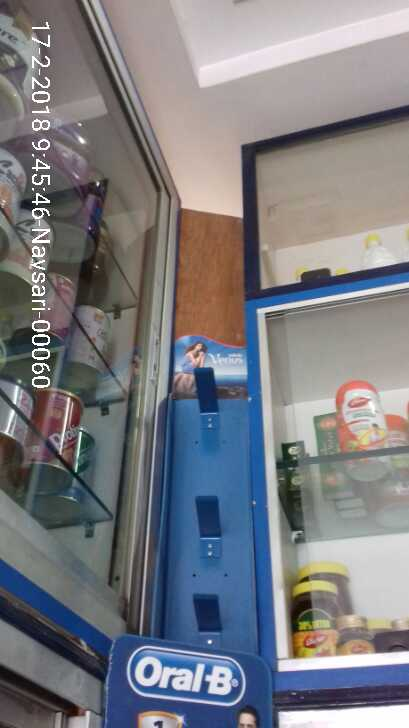reject: (178, 415, 237, 480)
